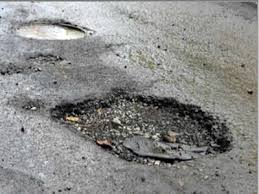potholes: (8, 15, 93, 47)
